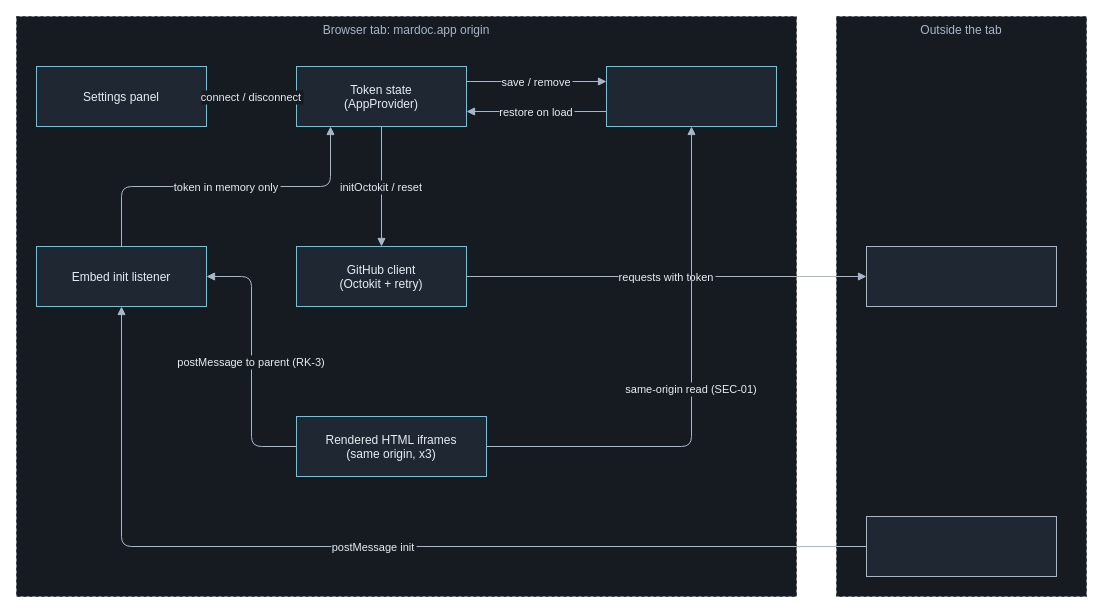
This 1103x613 diagram has some shape labels left out. The centre of each missing label's shape, as x and y in pixels:
"GitHub REST and GraphQL" goes at pixel 961 276.
"localStorage mardoc_github_token" goes at pixel 691 96.
"VS Code extension (mardoc-vscode)" goes at pixel 961 546.
